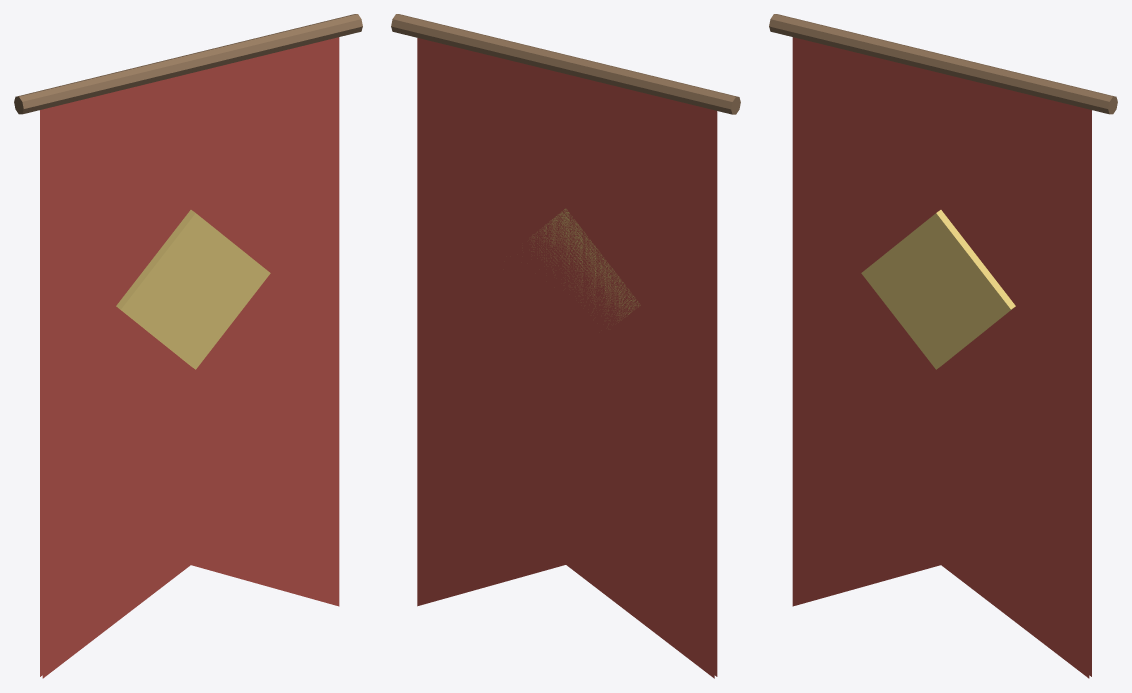
The model's file is banner_red.glb.
3 renders of one model, left to right at view 1: azimuth 30°, elevation 25°; view 2: azimuth 150°, elevation 25°; view 3: azimuth 330°, elevation 25°, orthographic.
Visible parts, largest first — view 1: banner_red; view 2: banner_red; view 3: banner_red.
Part boxes in pixels (x1=…): banner_red: x1=14, y1=14, x2=362, y2=678; banner_red: x1=391, y1=14, x2=740, y2=678; banner_red: x1=769, y1=14, x2=1117, y2=678.
Bounding box in the file's own units: 1.6 × 2.64 × 0.0999.
